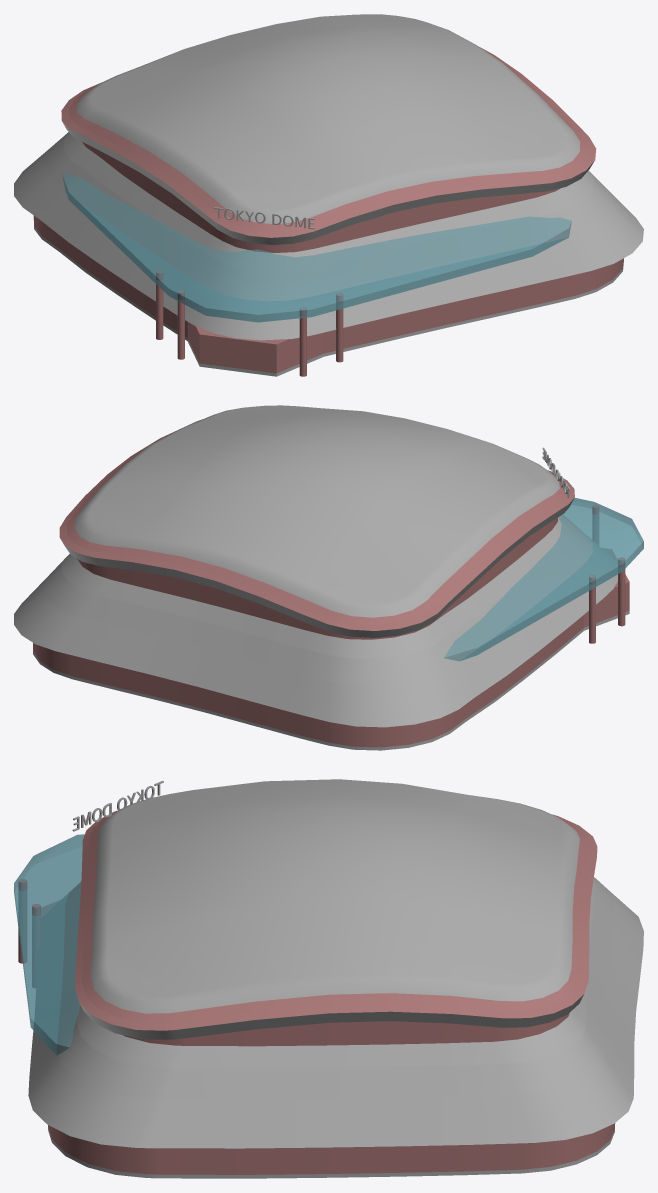
3 renders of one model, top to bottom at view 1: azimuth 30°, elevation 25°; view 2: azimuth 150°, elevation 25°; view 3: azimuth 270°, elevation 25°, orthographic. The views are drawn at different scales.
Visible parts, largest first — view 1: TokyoDome; view 2: TokyoDome; view 3: TokyoDome.
Part boxes in pixels (x1,y1,x2,y2): TokyoDome: (14,14,643,376); TokyoDome: (14,405,643,750); TokyoDome: (14,779,643,1178).
Size of the model in its own units: 3691 by 1394 by 3594.
